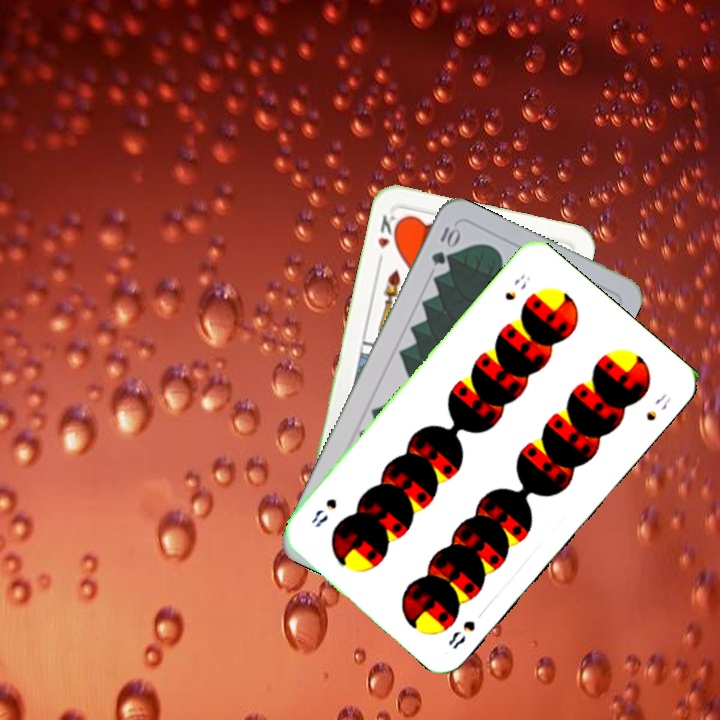G10: (427, 223, 462, 269)
HK: (373, 211, 403, 267)
S8: (444, 616, 478, 652), (500, 270, 533, 303)
